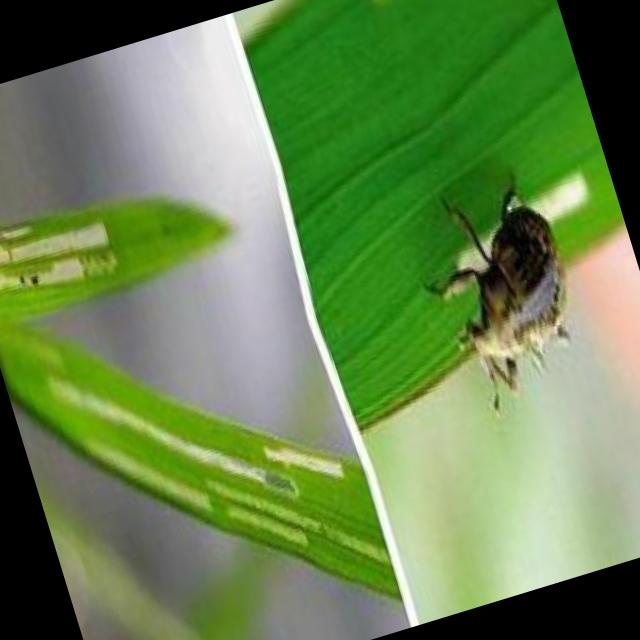rice-bug: (421, 168, 601, 412)
